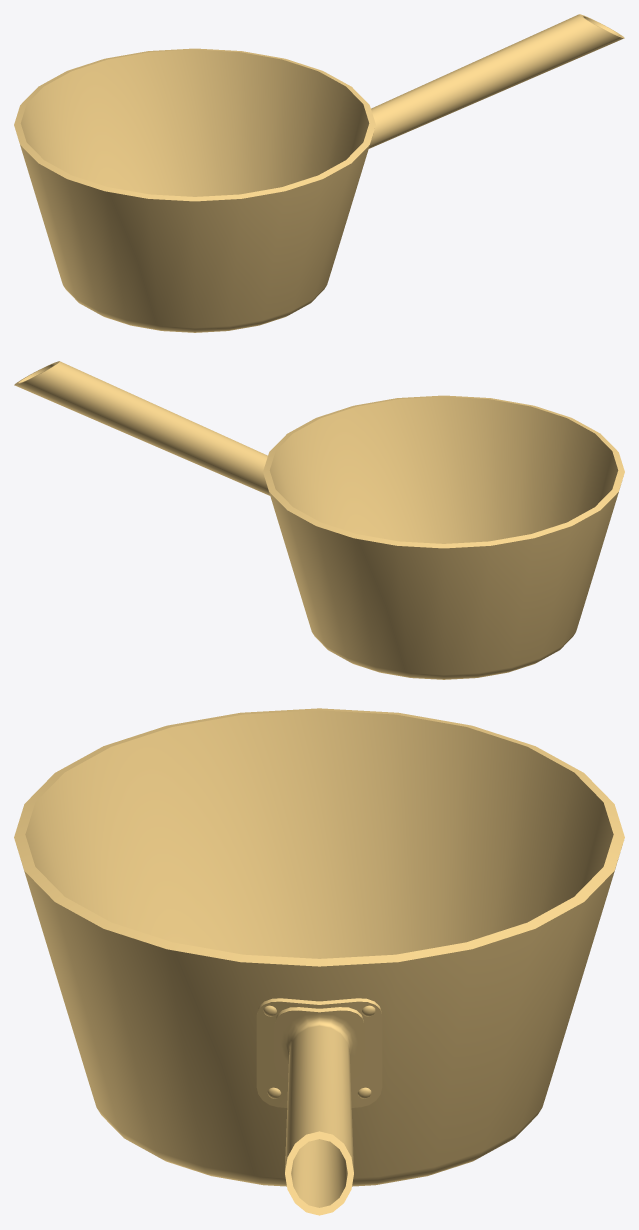
Rendered from SM_Pot_Small_02.fbx.
3 renders of one model, top to bottom at view 1: azimuth 30°, elevation 25°; view 2: azimuth 150°, elevation 25°; view 3: azimuth 270°, elevation 25°, orthographic. The views are drawn at different scales.
Visible parts, largest first — view 1: SM_Pot_Small_02; view 2: SM_Pot_Small_02; view 3: SM_Pot_Small_02.
Part boxes in pixels (box(x1,y1,x2,y2)): SM_Pot_Small_02: box(14, 14, 624, 332); SM_Pot_Small_02: box(14, 361, 624, 679); SM_Pot_Small_02: box(14, 708, 624, 1215).
Size of the model in its own units: 58.52 by 16.18 by 31.39.
